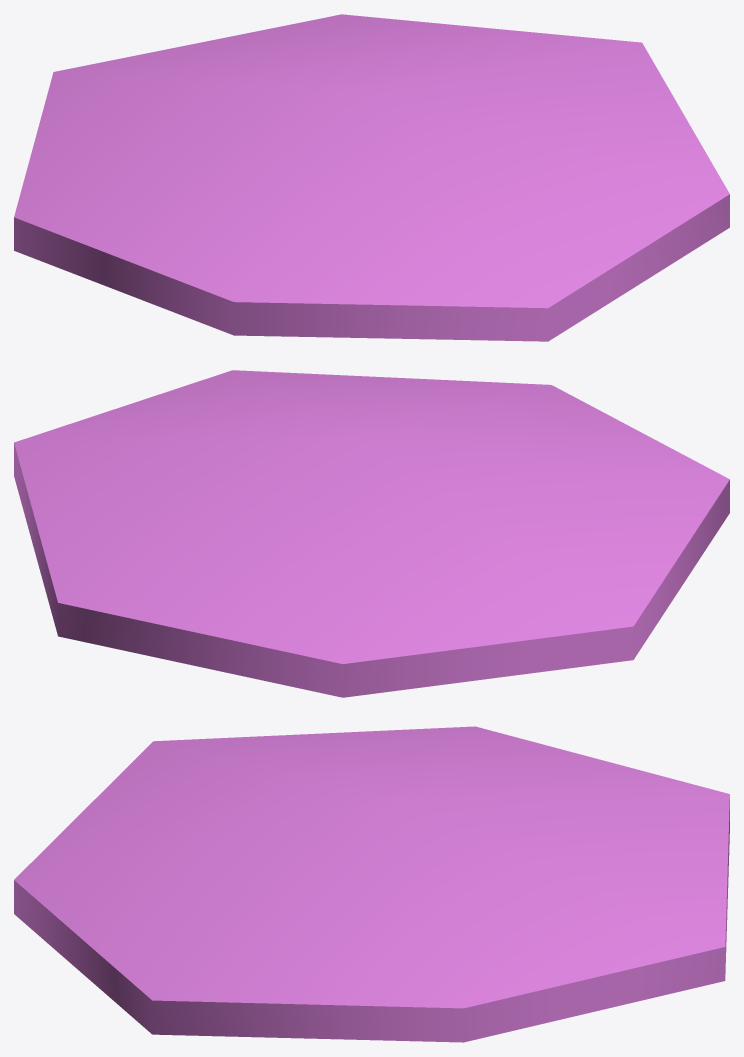
Rendered from Trachcan top.fbx.
The picture shows the model from 3 angles, top to bottom: view 1: azimuth 30°, elevation 25°; view 2: azimuth 150°, elevation 25°; view 3: azimuth 270°, elevation 25°; orthographic projection.
Visible parts, largest first — view 1: Trashcan cop; view 2: Trashcan cop; view 3: Trashcan cop.
Part boxes in pixels (x1=…): Trashcan cop: x1=14, y1=14, x2=729, y2=341; Trashcan cop: x1=14, y1=370, x2=729, y2=697; Trashcan cop: x1=14, y1=726, x2=729, y2=1042.
Size of the model in its own units: 140 by 24.1 by 137.
